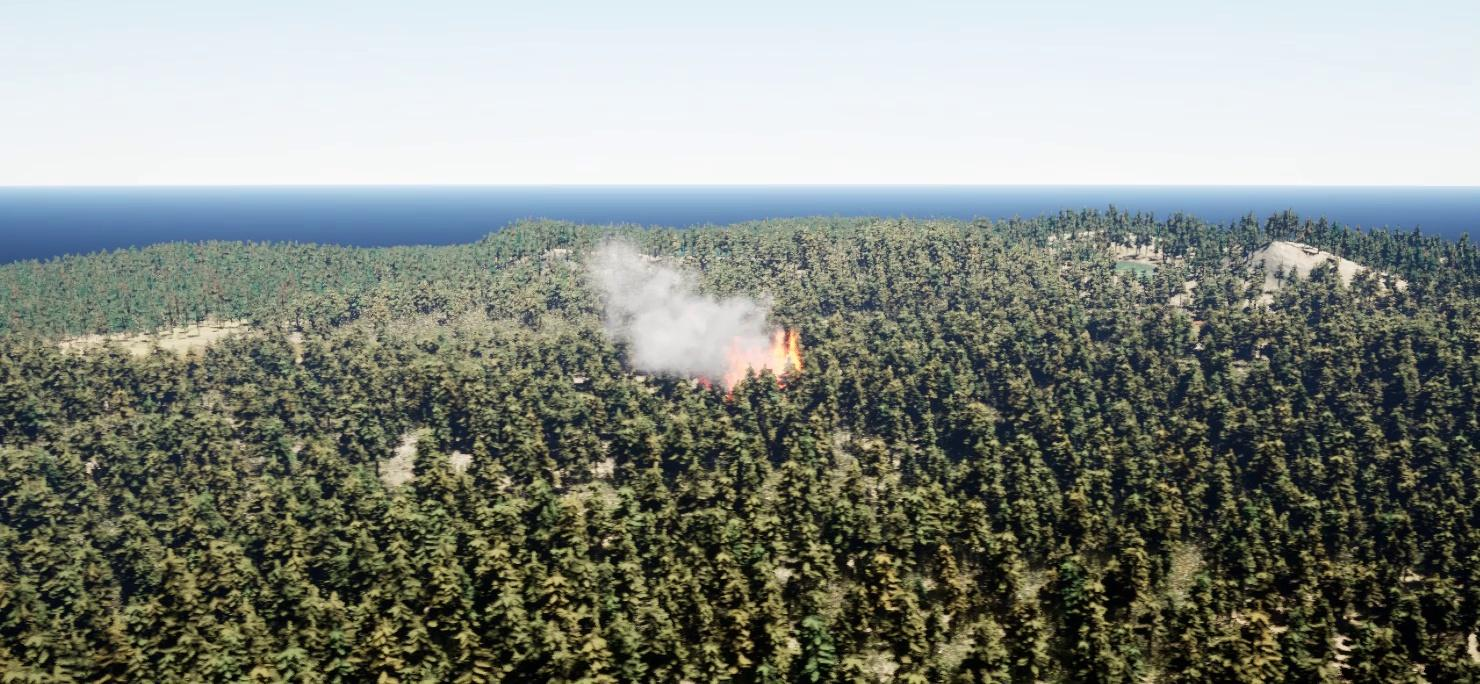fire: (718, 327, 806, 396)
smoke: (570, 227, 772, 386)
